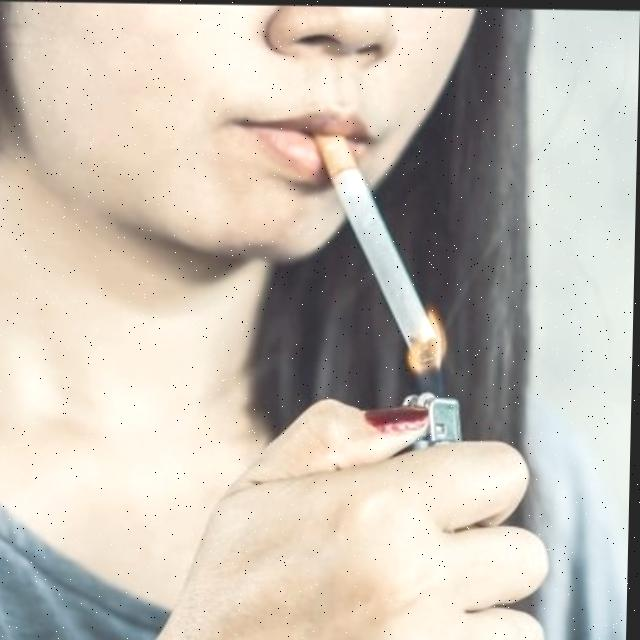cigarette: (311, 134, 446, 363)
